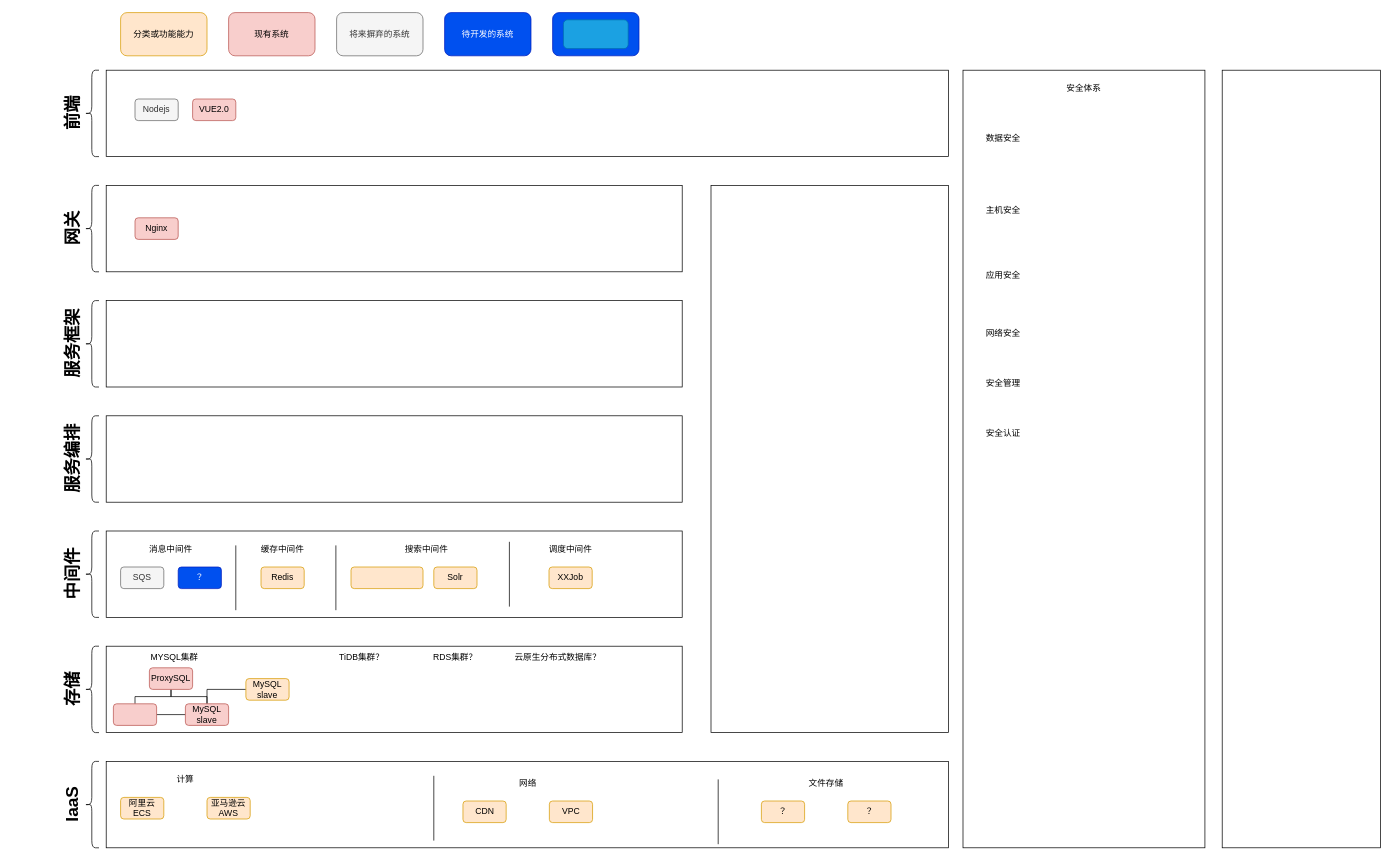
The diagram is 1393 pixels wide and 860 high, and some of its shapes have lost their labels. The centre of each missing label's shape, as x and y in pixels:
AI-大数据: the point at 829,459
Dev&Ops: the point at 1301,458
Elasticsearch: the point at 386,577
MySQL master: the point at 135,714
待开发系统能力: the point at 595,34
